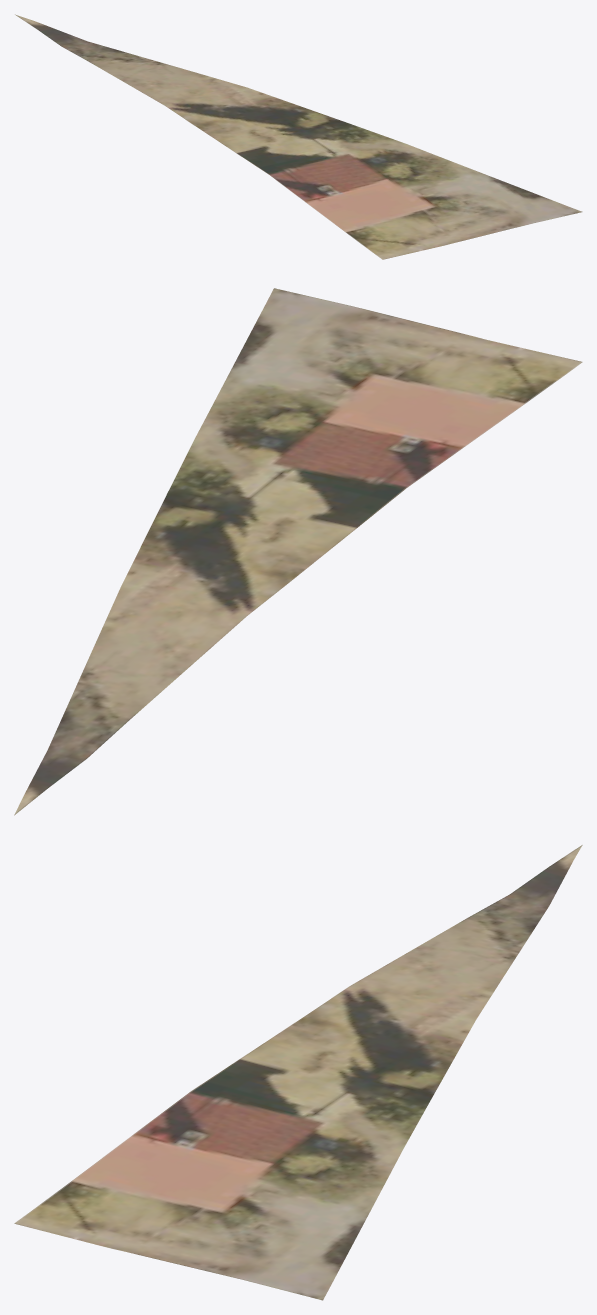
Rendered from CM_Terrain_24491687_6820818.fbx.
The picture shows the model from 3 angles, top to bottom: view 1: azimuth 30°, elevation 25°; view 2: azimuth 150°, elevation 25°; view 3: azimuth 330°, elevation 25°; orthographic projection. The views are drawn at different scales.
Parts seen in each view (by area): view 1: CM_Terrain_24491687_6820818_LOD0; view 2: CM_Terrain_24491687_6820818_LOD0; view 3: CM_Terrain_24491687_6820818_LOD0.
Boxes of the visible parts, x1,y1,x2,y2 form: CM_Terrain_24491687_6820818_LOD0: [15, 14, 582, 259]; CM_Terrain_24491687_6820818_LOD0: [14, 288, 582, 815]; CM_Terrain_24491687_6820818_LOD0: [14, 845, 582, 1300].
Size of what is drawn, in the model's own units: 16.73 by 2.08 by 53.36.
